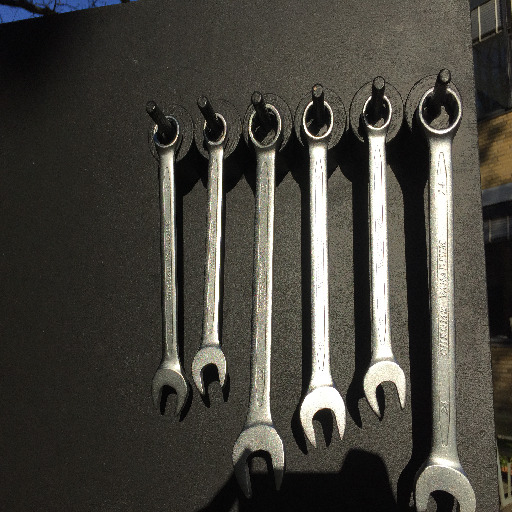bottom: (231, 425, 287, 501), (411, 456, 483, 512), (297, 383, 348, 448), (360, 357, 409, 418), (149, 360, 191, 419), (189, 343, 231, 397)
top: (414, 84, 465, 141), (245, 104, 285, 150), (300, 99, 339, 144), (359, 92, 396, 137), (150, 115, 184, 153), (199, 111, 232, 149)
